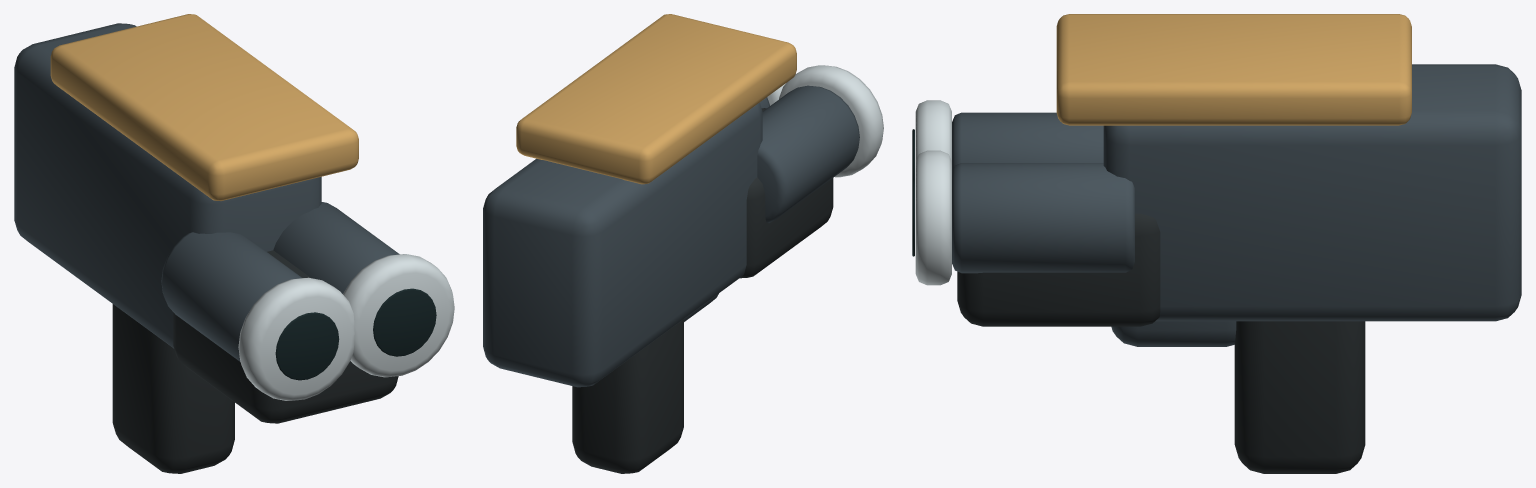
Rendered from shotgun_wide.t2.glb.
3 views of the same model, side by side, from view 1: azimuth 30°, elevation 25°; view 2: azimuth 150°, elevation 25°; view 3: azimuth 270°, elevation 25° (orthographic). The views are drawn at different scales.
Visible parts, largest first — view 1: weapon_right__forged_bluelead_steel__protected, weapon_right__worn_warm_brass__protected, weapon_right__charcoal_rubber__protected, weapon_right__honed_steel_edge__protected, weapon_right__eye_socket__protected; view 2: weapon_right__forged_bluelead_steel__protected, weapon_right__worn_warm_brass__protected, weapon_right__charcoal_rubber__protected, weapon_right__honed_steel_edge__protected; view 3: weapon_right__forged_bluelead_steel__protected, weapon_right__worn_warm_brass__protected, weapon_right__charcoal_rubber__protected, weapon_right__honed_steel_edge__protected.
Part boxes in pixels (x1,y1,x2,y2): weapon_right__forged_bluelead_steel__protected: (14, 23, 399, 361); weapon_right__worn_warm_brass__protected: (50, 14, 358, 200); weapon_right__charcoal_rubber__protected: (112, 250, 398, 473); weapon_right__honed_steel_edge__protected: (238, 254, 454, 400); weapon_right__eye_socket__protected: (275, 288, 436, 380); weapon_right__forged_bluelead_steel__protected: (483, 85, 859, 387); weapon_right__worn_warm_brass__protected: (516, 14, 796, 184); weapon_right__charcoal_rubber__protected: (572, 108, 833, 473); weapon_right__honed_steel_edge__protected: (767, 65, 883, 177); weapon_right__forged_bluelead_steel__protected: (952, 64, 1521, 346); weapon_right__worn_warm_brass__protected: (1056, 14, 1411, 125); weapon_right__charcoal_rubber__protected: (957, 213, 1365, 473); weapon_right__honed_steel_edge__protected: (915, 100, 951, 285).
Bounding box in the file's own units: 0.219 × 0.3937 × 0.5247.
